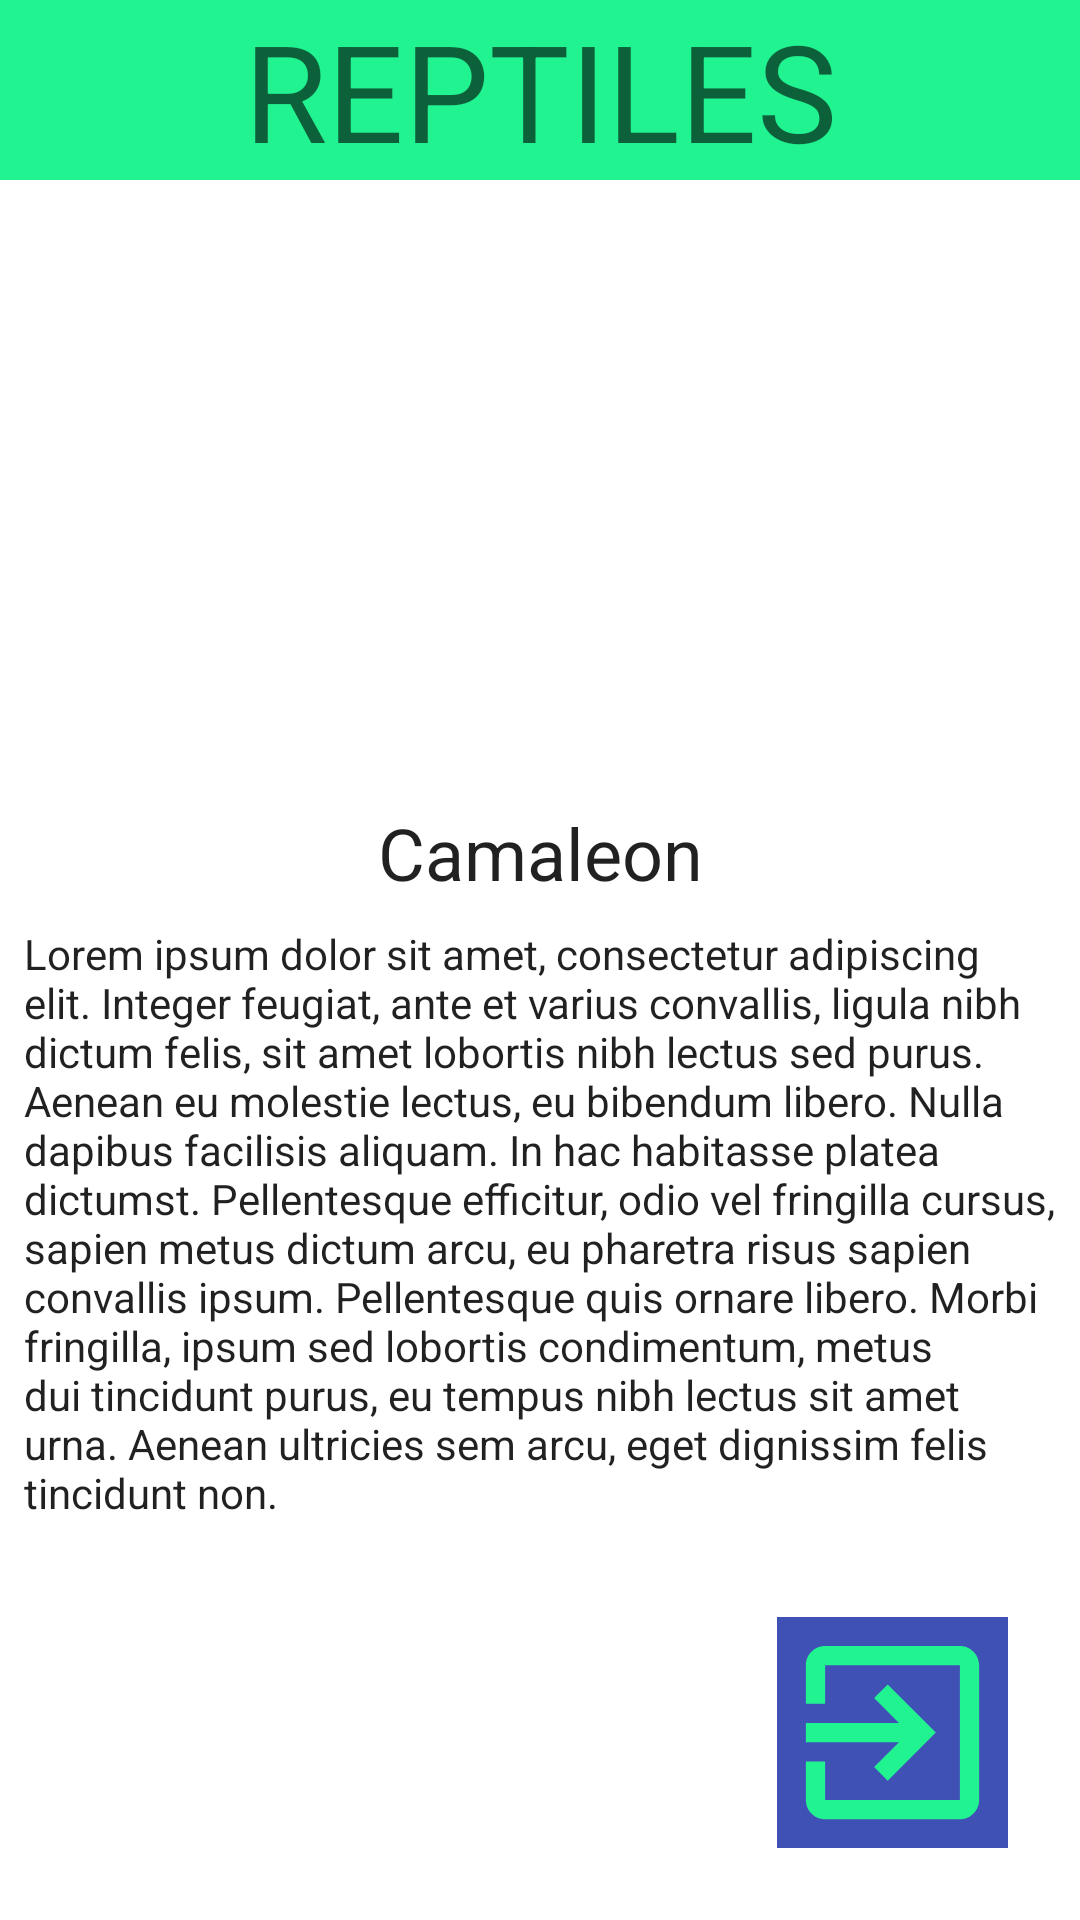

Locate icon controls on the screen. Image size 1080w x 1920h, boxes as Rect(x1, y1, x2, y2).
exit to app: Rect(777, 1617, 1008, 1848)
